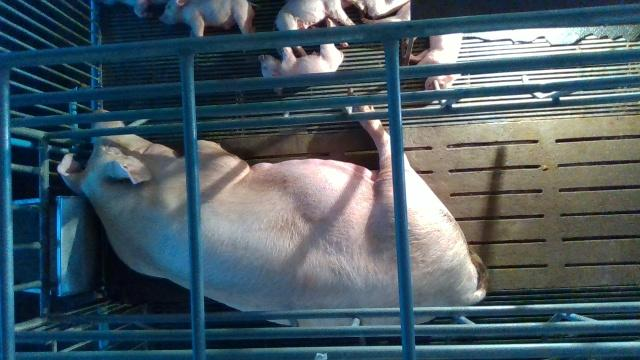piglet: (273, 0, 357, 55), (257, 43, 344, 95), (160, 0, 261, 37), (411, 33, 464, 90)
sow-sleep: (58, 107, 492, 327)
